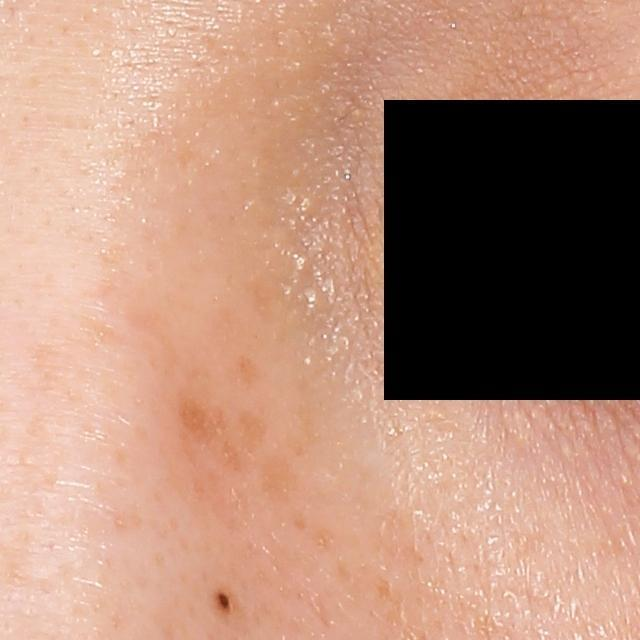melasma: (176, 395, 252, 482), (260, 450, 294, 512), (236, 407, 274, 460), (235, 349, 266, 394)
